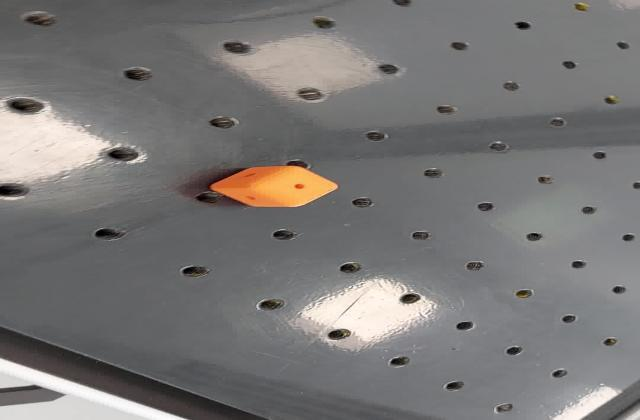cube: (204, 164, 346, 209)
